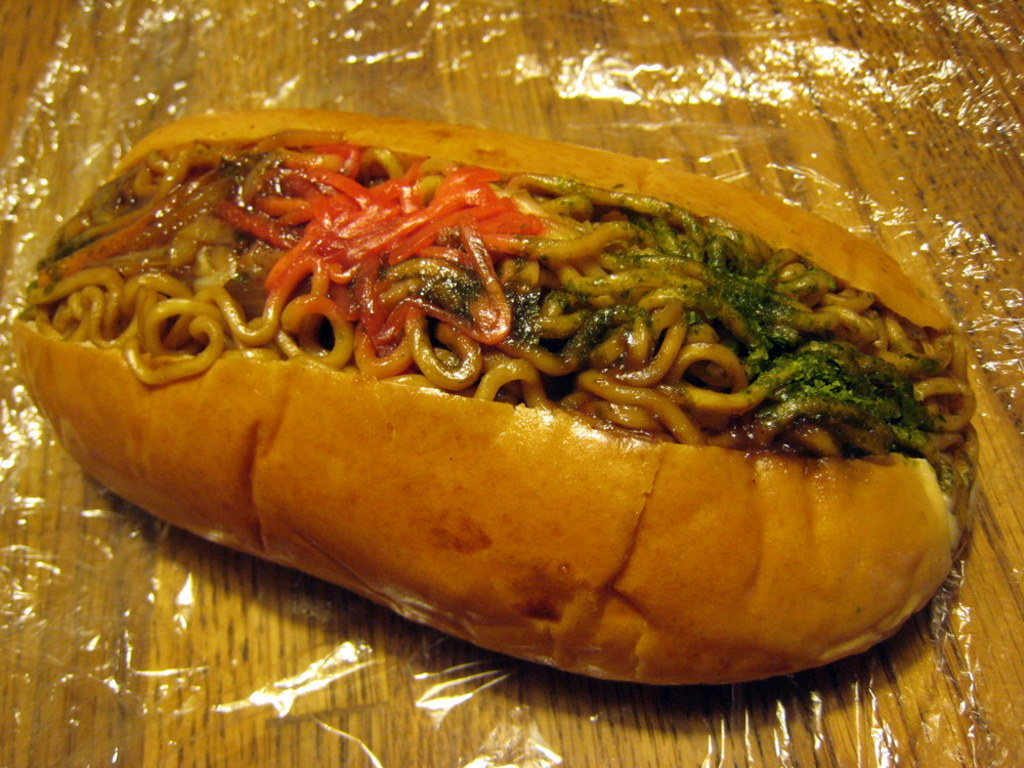hot_dog: (0, 75, 1024, 709)
